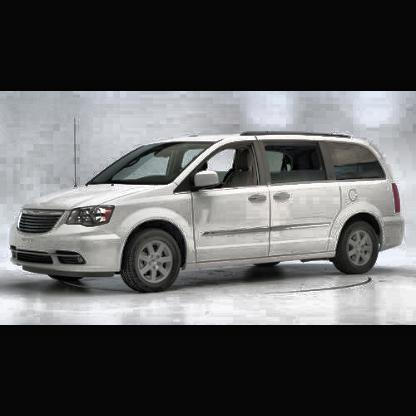Chrysler Town and Country Minivan 2012: (10, 129, 406, 296)
